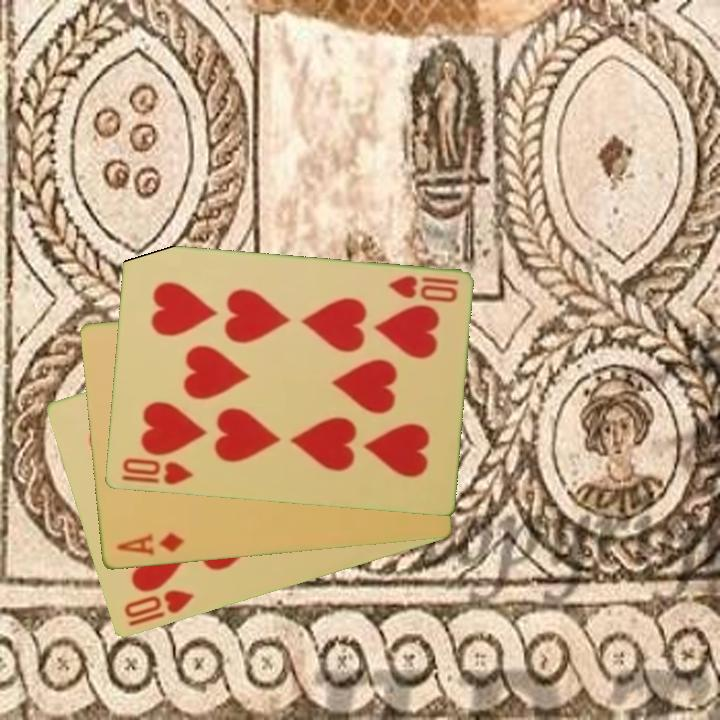10h: (120, 587, 196, 630), (384, 272, 461, 306), (117, 455, 195, 488)
Ad: (113, 529, 187, 559)
